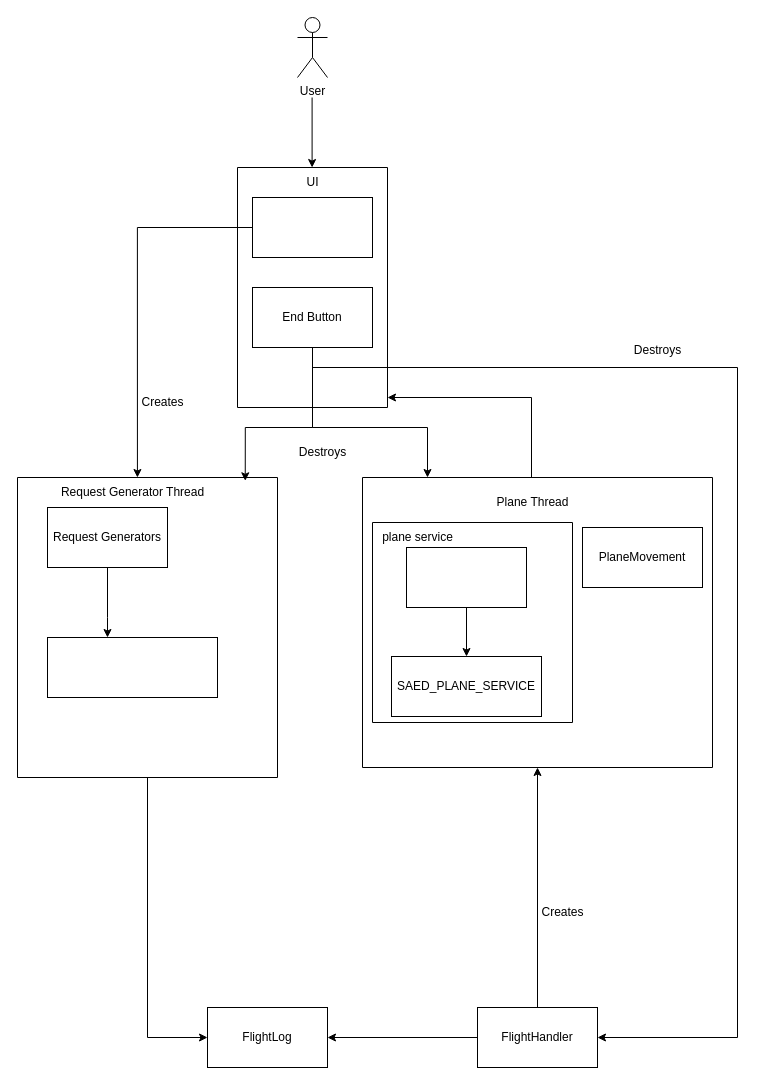
Image size: 763x1085. Some labels were removed from this diagram. The shapes that lost their labels are listed below. From the top down, each one's centre as x and y in pixels, then its label:
At (x=312, y=227): "Start Button".
At (x=466, y=577): "PlaneService".
At (x=132, y=667): "SAED_FLIGHT_REQUESTS".
